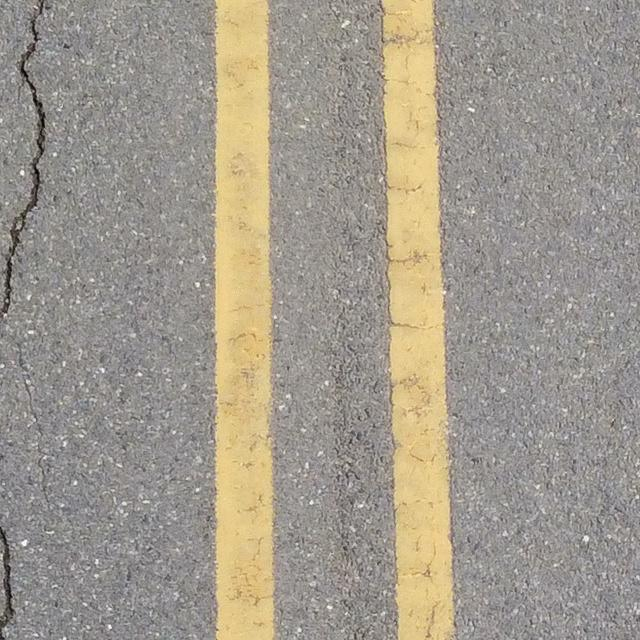LongitudinalCrack: (1, 1, 49, 320), (1, 530, 18, 640)
